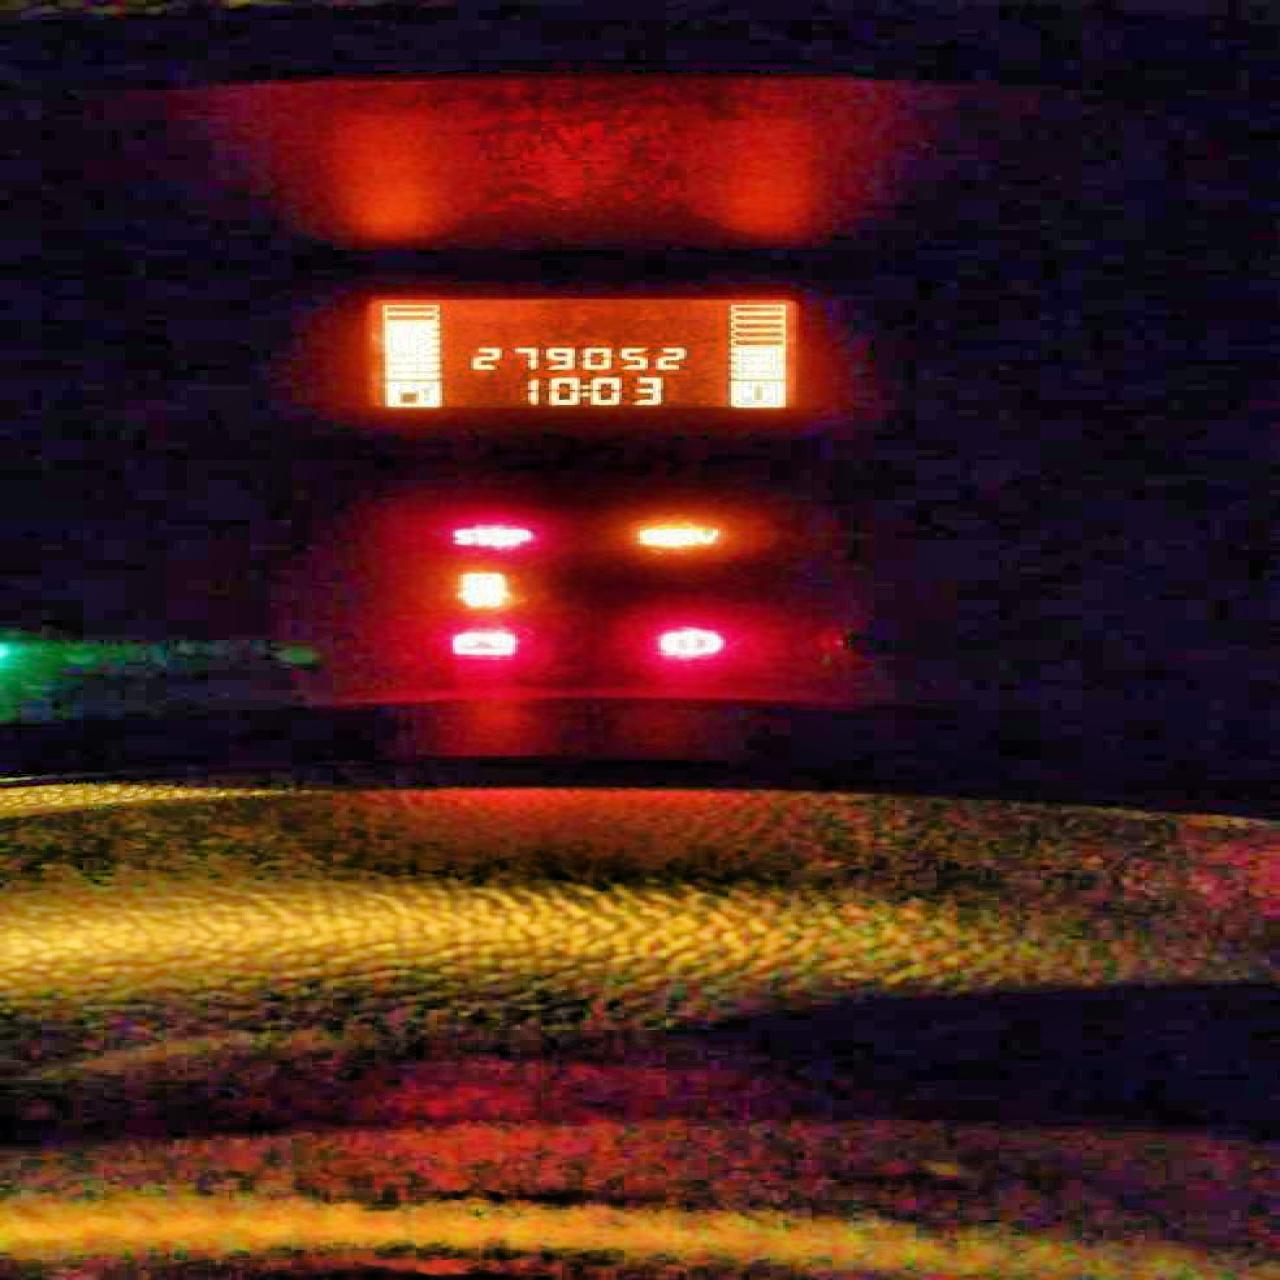0: (544, 376, 578, 406), (586, 376, 620, 406), (580, 346, 612, 369)
1: (523, 377, 538, 403)
2: (651, 346, 685, 369), (469, 346, 499, 369)
3: (629, 375, 660, 406)
5: (617, 346, 645, 370)
7: (510, 346, 538, 369)
9: (542, 346, 576, 370)
X: (578, 384, 588, 395)
odometer: (356, 295, 796, 411)
